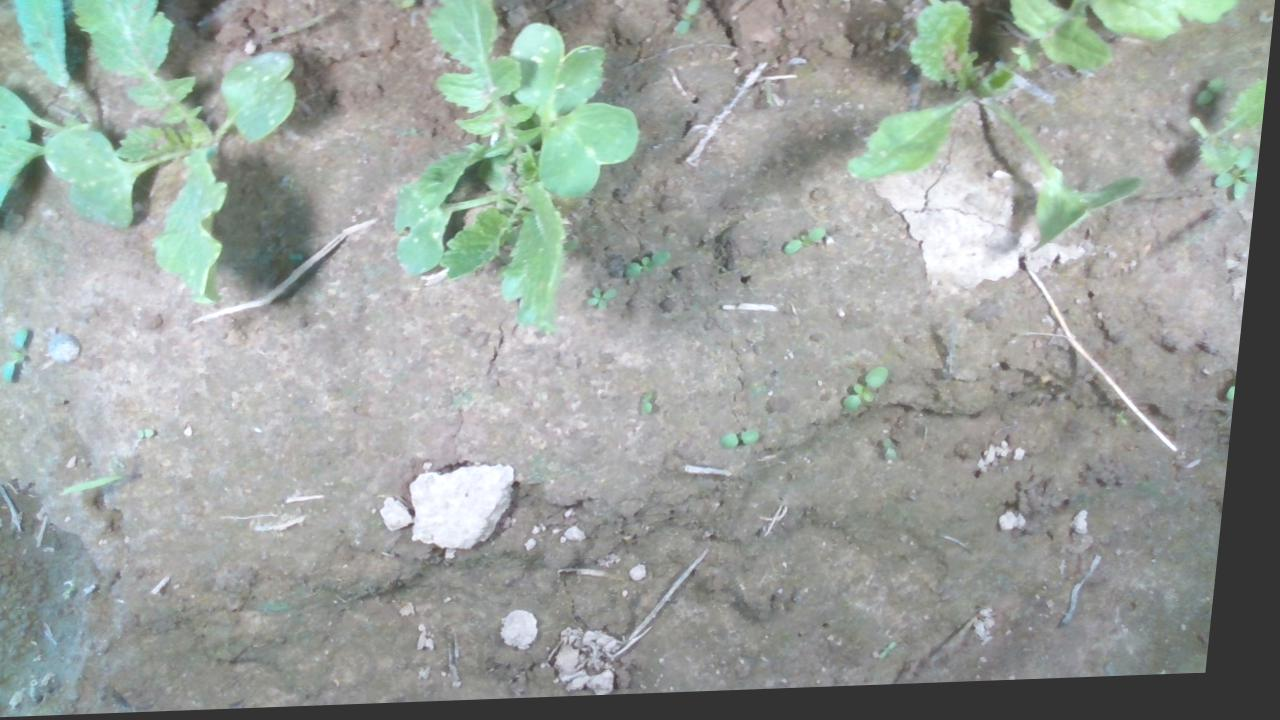weed: (850, 371, 898, 417), (7, 326, 35, 384), (629, 253, 679, 282), (788, 230, 832, 260), (726, 433, 771, 456), (590, 291, 625, 316), (891, 440, 910, 469), (646, 393, 663, 419), (143, 428, 164, 441)
